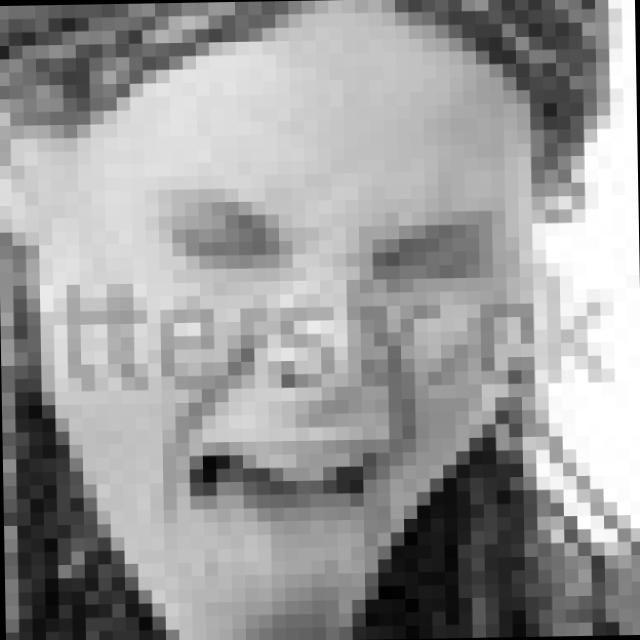disgust: (151, 173, 507, 640)
